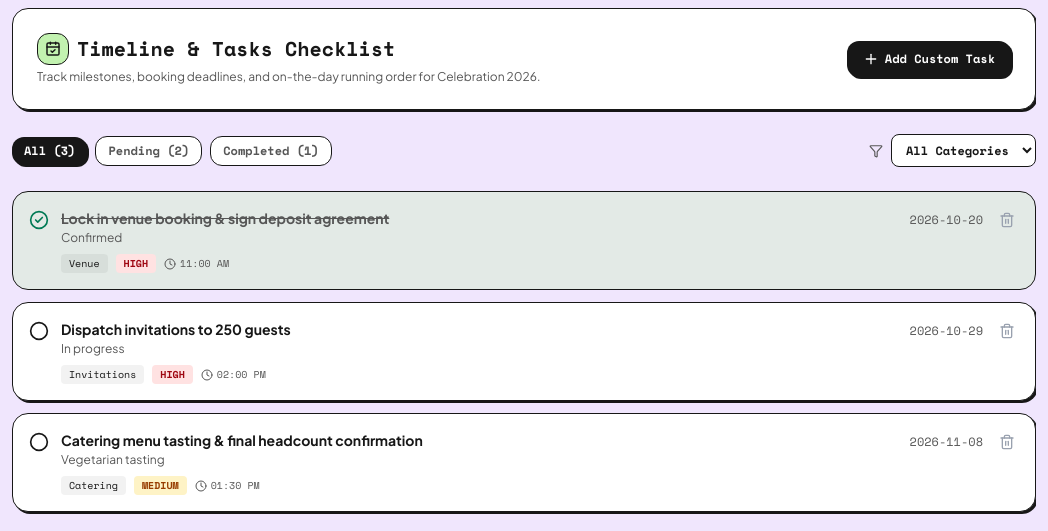
Timeline & Task Completion Logic › filters tasks when clicking status filter buttons
# Click 'completed' filter
Click the button "completed (1)" at (271, 150), box [210,136,332,166]
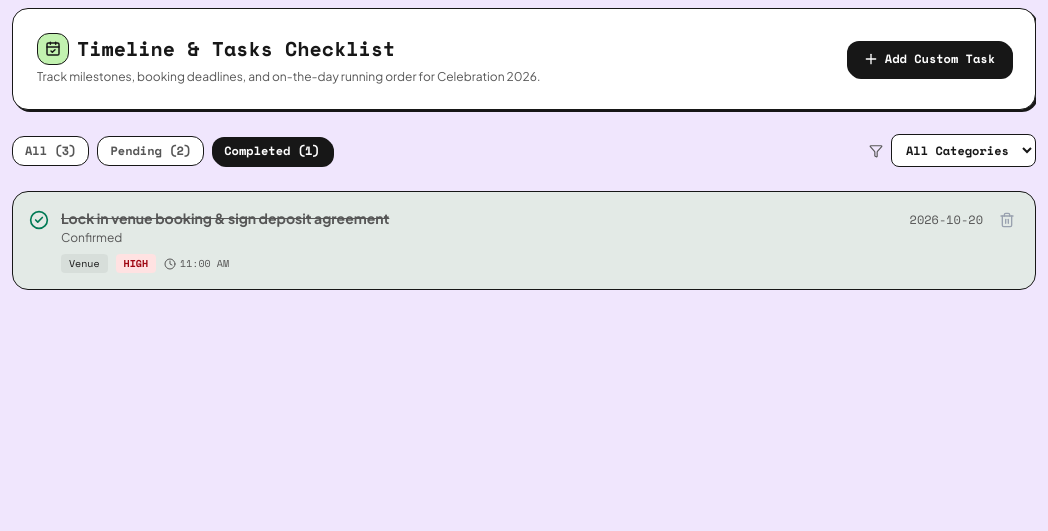
Expected: the heading "Lock in venue booking & sign deposit agreement" is shown, [61,208,389,228]
Result: the checkbox "Dispatch invitations to 250 guests" is gone
Result: the checkbox "Catering menu tasting & final headcount confirmation" is gone
# Click 'pending' filter
Click the button "pending (2)" at (151, 150), box [97,136,204,166]
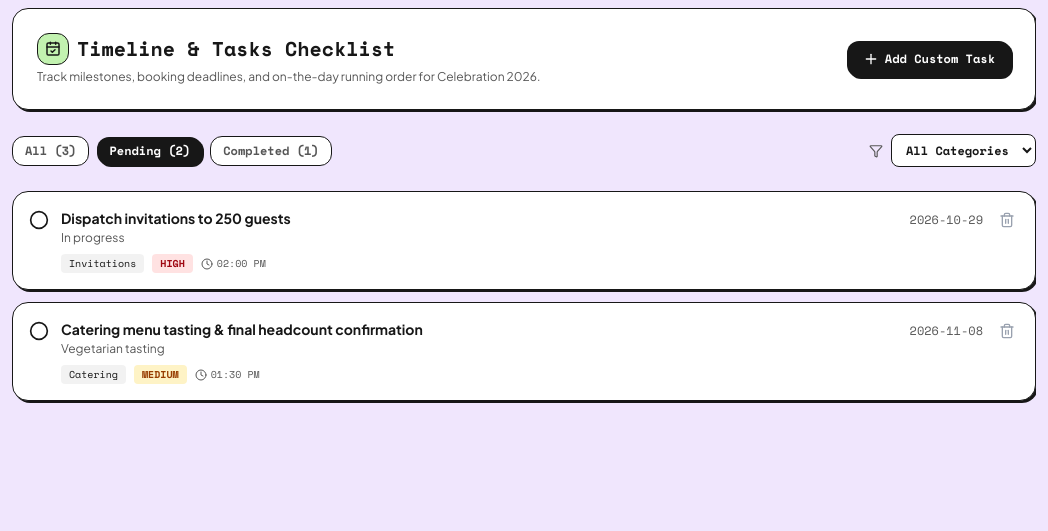
Result: the checkbox "Lock in venue booking & sign deposit agreement" is gone
Result: the heading "Dispatch invitations to 250 guests" is shown at [61,208,291,228]
Result: the heading "Catering menu tasting & final headcount confirmation" is shown at [61,319,423,339]
